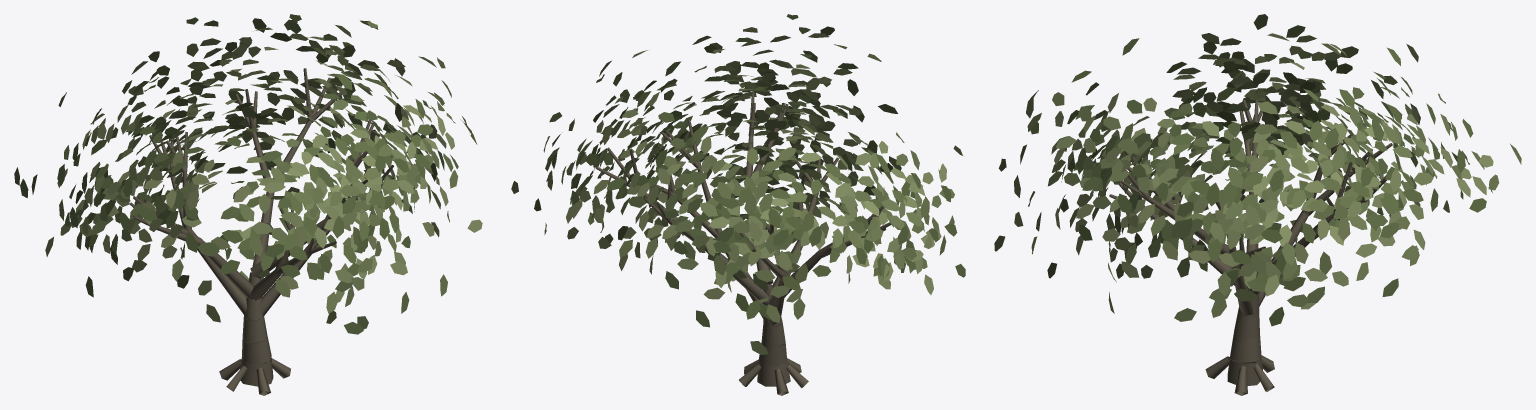
File: olive_1.glb
The picture shows the model from 3 angles, left to right: view 1: azimuth 30°, elevation 25°; view 2: azimuth 150°, elevation 25°; view 3: azimuth 270°, elevation 25°; orthographic projection. The views are drawn at different scales.
Parts seen in each view (by area): view 1: olive_1_LOD0; view 2: olive_1_LOD0; view 3: olive_1_LOD0.
Part boxes in pixels (box(x1,y1,x2,y2)): olive_1_LOD0: box(14, 14, 482, 395); olive_1_LOD0: box(511, 14, 965, 395); olive_1_LOD0: box(994, 14, 1521, 395).
Size of what is drawn, in the model's own units: 1.88 by 1.46 by 1.93.
